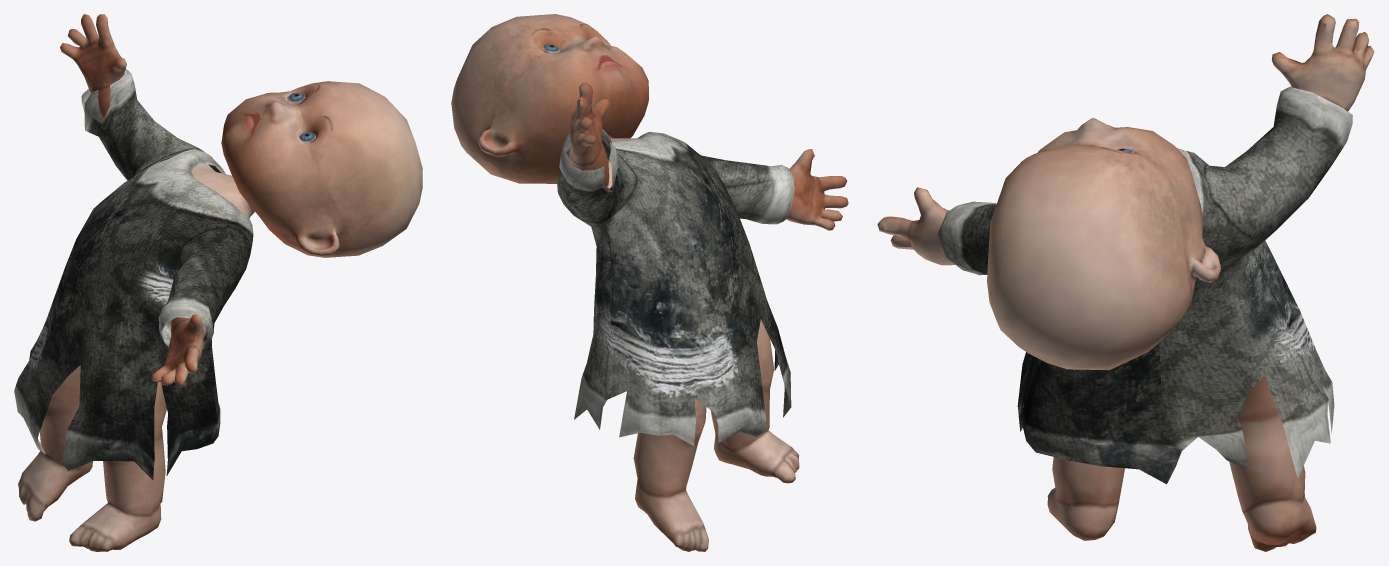
Rendered from SM_Dolls_4.fbx.
The picture shows the model from 3 angles, left to right: view 1: azimuth 30°, elevation 25°; view 2: azimuth 150°, elevation 25°; view 3: azimuth 270°, elevation 25°; orthographic projection. The views are drawn at different scales.
Parts seen in each view (by area): view 1: SM_Dolls_4; view 2: SM_Dolls_4; view 3: SM_Dolls_4.
Part boxes in pixels (<box>): SM_Dolls_4: <box>14,14,422,551</box>; SM_Dolls_4: <box>451,14,848,551</box>; SM_Dolls_4: <box>877,14,1374,551</box>.
Size of the model in its own units: 15.87 by 15.73 by 20.74.
2 materials, 2 textured.
